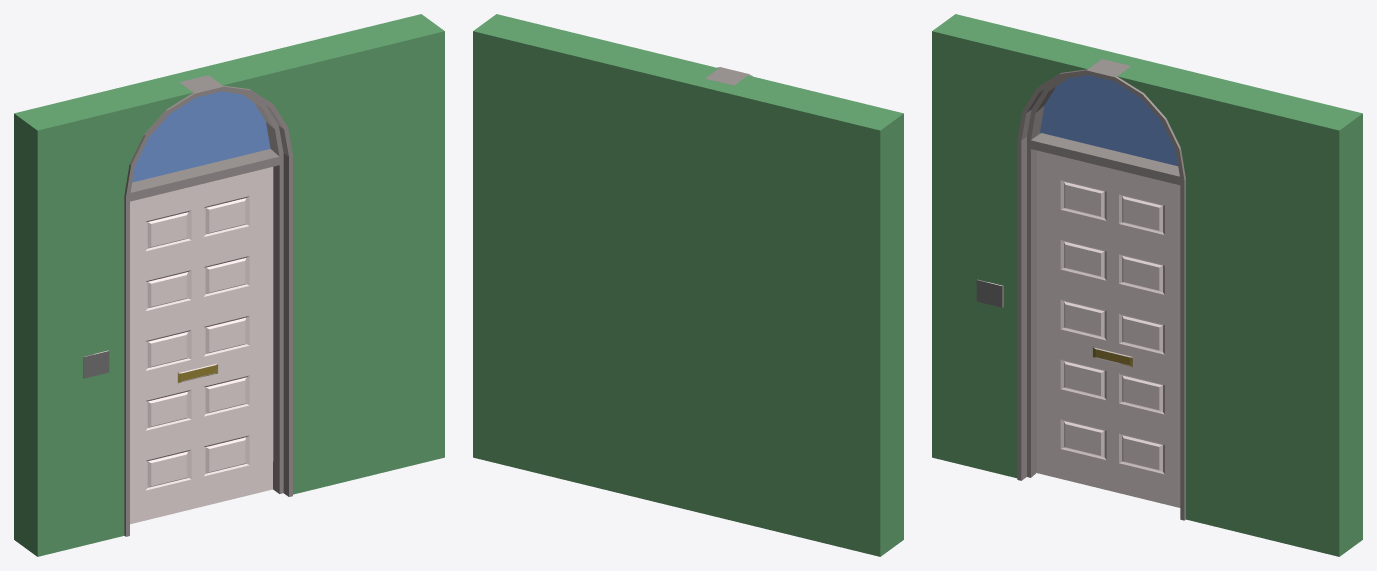
File: Door.fbx
3 views of the same model, side by side, from view 1: azimuth 30°, elevation 25°; view 2: azimuth 150°, elevation 25°; view 3: azimuth 330°, elevation 25° (orthographic).
Parts seen in each view (by area): view 1: Door; view 2: Door; view 3: Door.
Boxes of the visible parts, x1,y1,x2,y2 form: Door: (14,14,444,556); Door: (473,14,903,556); Door: (932,14,1362,556).
Bounding box in the file's own units: 300 × 300 × 32.
